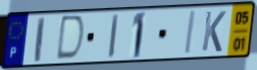1: (131, 11, 147, 60)
D: (54, 14, 87, 63)
I: (183, 9, 198, 56), (33, 16, 47, 64), (107, 13, 121, 60)
K: (200, 10, 228, 54)
